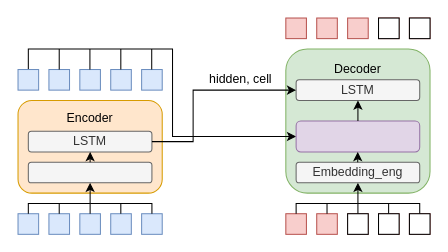
Some shapes in this 448 by 252 pixel diagram are drawn without their labels. The centre of each missing label's shape, as x and y in pixels:
"attention module" belongs at (357,136).
"Embedding_jpn" belongs at (89,172).
